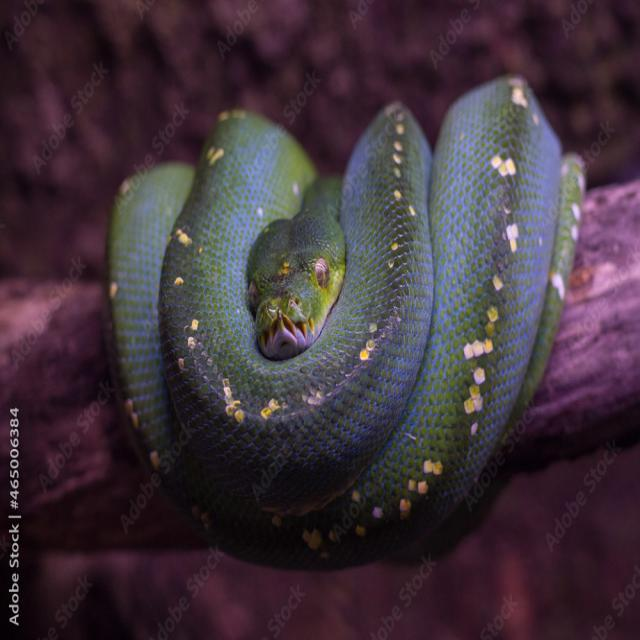Snake: (102, 60, 600, 600)
